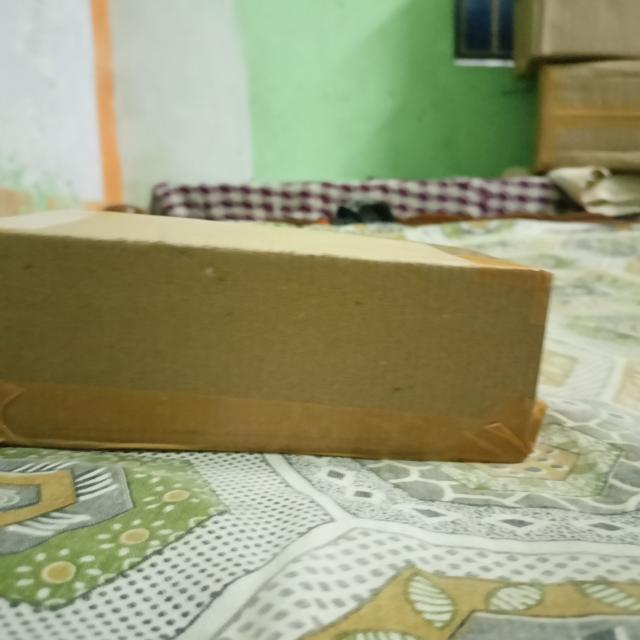box: (1, 238, 554, 458)
